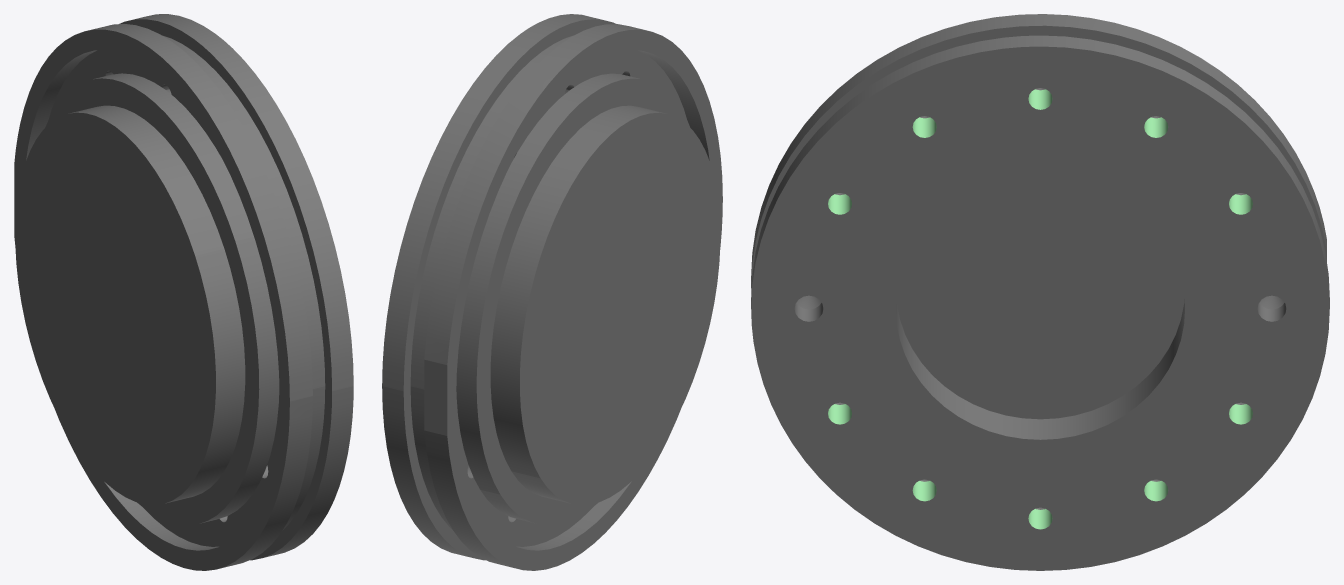
3 renders of one model, left to right at view 1: azimuth 30°, elevation 25°; view 2: azimuth 150°, elevation 25°; view 3: azimuth 270°, elevation 25°, orthographic. The views are drawn at different scales.
Visible parts, largest first — view 1: Mesh_0; view 2: Mesh_0; view 3: Mesh_0.
Boxes of the visible parts, x1,y1,x2,y2 form: Mesh_0: (14,14,353,570); Mesh_0: (382,14,722,570); Mesh_0: (751,14,1329,570).
Bounding box in the file's own units: 0.0415 × 0.2 × 0.2.
